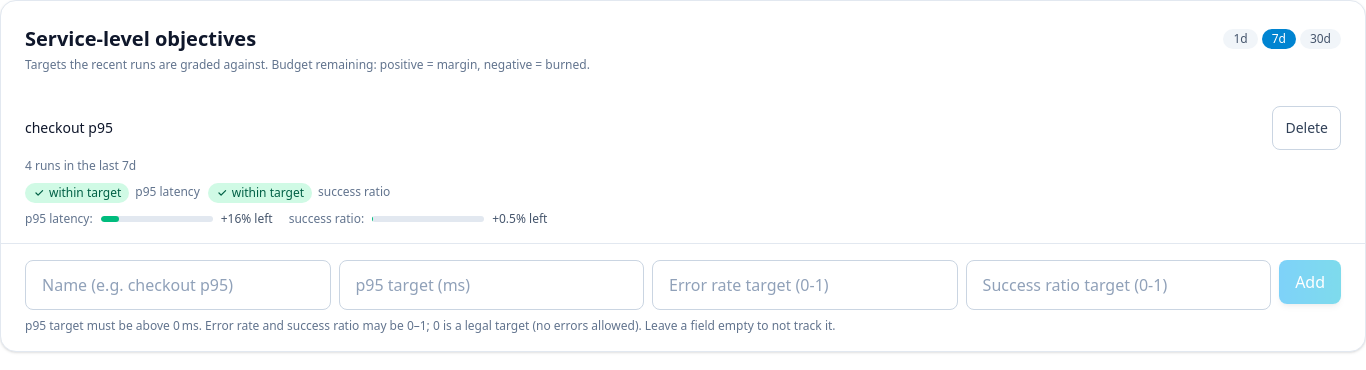
it: SloPanel › deletes only on the second, confirming click, naming the SLO
Click the button "Delete" at {"x": 1307, "y": 128}, box left=1272, top=106, right=1341, bottom=150
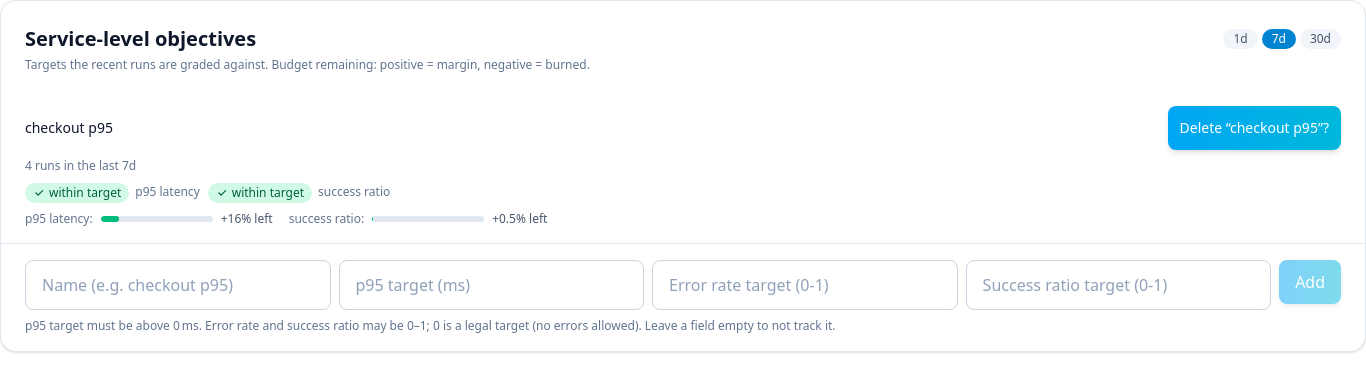
Result: the button "Delete “checkout p95”?" is shown
Click the button "Delete “checkout p95”?" at {"x": 1254, "y": 128}, box left=1168, top=106, right=1341, bottom=150
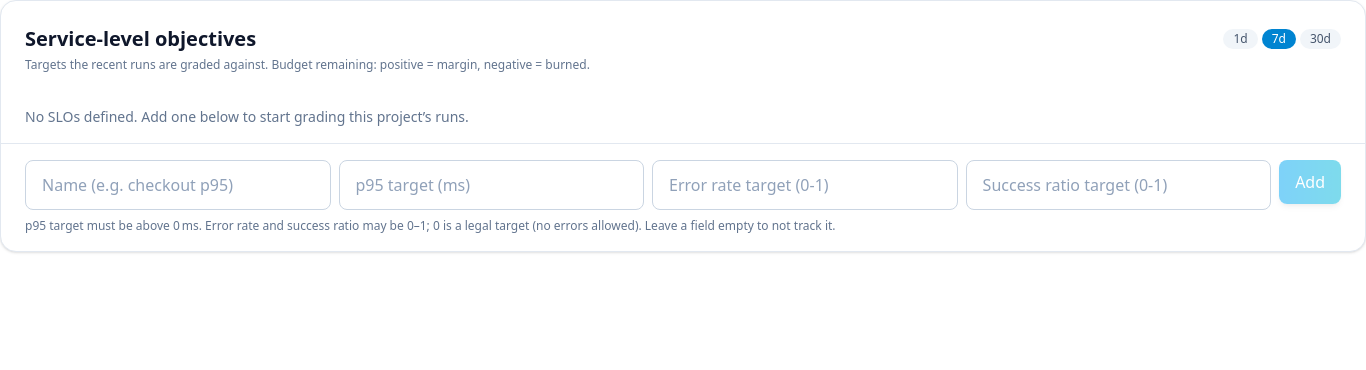
Result: the list item with test id "slo-row-3" is gone
